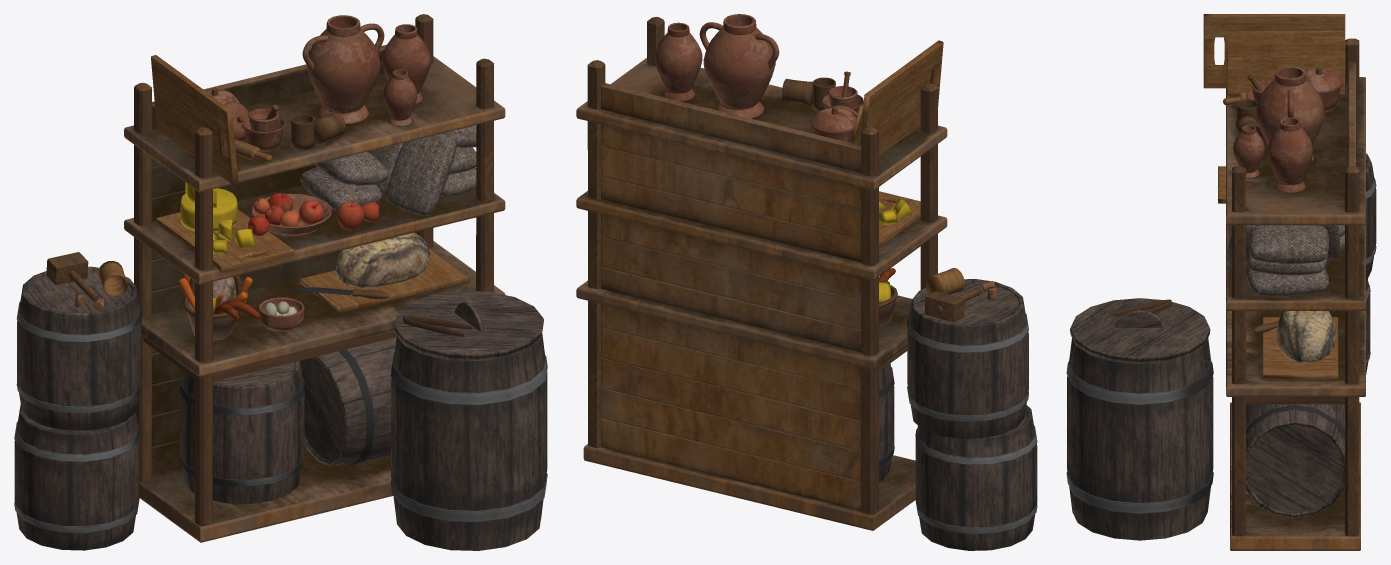
File: pantry.glb
3 renders of one model, left to right at view 1: azimuth 30°, elevation 25°; view 2: azimuth 150°, elevation 25°; view 3: azimuth 270°, elevation 25°, orthographic. The views are drawn at different scales.
Parts seen in each view (by area): view 1: K2_Pantry_Barrels, K1_Pantry_Base, K5_Pantry_Lvl3, K4_Pantry_Lvl2, K3_Pantry_Lvl1; view 2: K1_Pantry_Base, K2_Pantry_Barrels, K5_Pantry_Lvl3, K4_Pantry_Lvl2, K3_Pantry_Lvl1; view 3: K2_Pantry_Barrels, K1_Pantry_Base, K5_Pantry_Lvl3, K4_Pantry_Lvl2, K3_Pantry_Lvl1.
Part boxes in pixels (x1,y1,x2,y2): K2_Pantry_Barrels: (14,252,547,550); K1_Pantry_Base: (124,14,505,542); K5_Pantry_Lvl3: (151,15,430,185); K4_Pantry_Lvl2: (155,125,476,272); K3_Pantry_Lvl1: (178,232,468,340); K1_Pantry_Base: (576,17,947,530); K2_Pantry_Barrels: (879,268,1037,550); K5_Pantry_Lvl3: (655,14,943,155); K4_Pantry_Lvl2: (879,191,920,247); K3_Pantry_Lvl1: (879,268,897,325); K2_Pantry_Barrels: (1066,153,1376,540); K1_Pantry_Base: (1226,38,1365,550); K5_Pantry_Lvl3: (1203,14,1345,192); K4_Pantry_Lvl2: (1218,166,1344,296); K3_Pantry_Lvl1: (1252,311,1338,379).
Size of the model in its own units: 12.79 by 12.53 by 8.32.
1 material, 1 textured.
